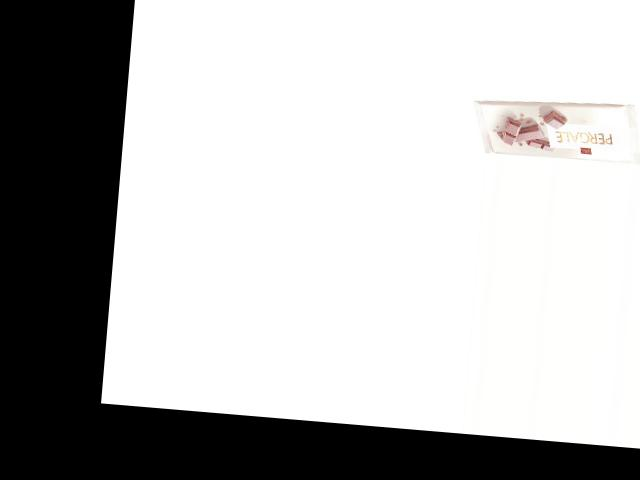chocolate: (466, 93, 640, 165)
